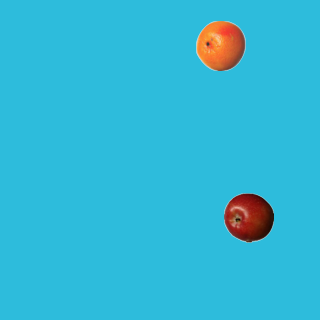Apple Braeburn: (223, 192, 273, 242)
Grapefruit Pink: (195, 20, 245, 70)
